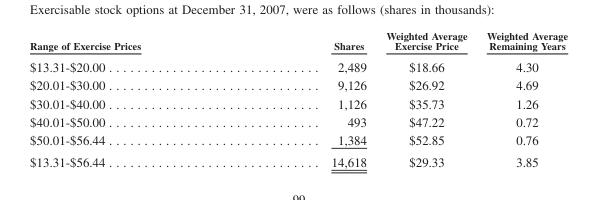table: (29, 29, 566, 168)
table column: (29, 29, 235, 168), (235, 29, 375, 168), (375, 29, 476, 168), (476, 29, 566, 168)
table column header: (29, 29, 566, 55)
table row: (29, 29, 566, 55), (29, 55, 566, 76), (29, 130, 566, 150), (29, 76, 566, 94), (29, 94, 566, 112), (29, 112, 566, 130), (29, 150, 566, 168)
